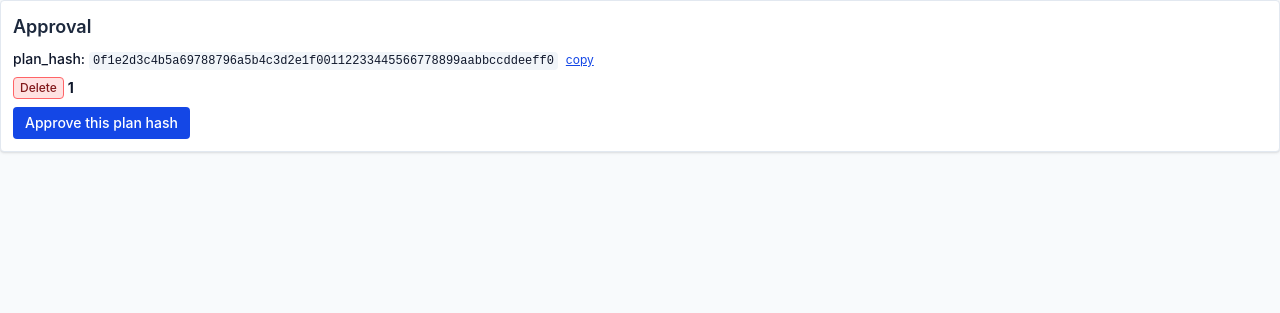
ApprovePanel › shows the error code and offers Re-plan on STALE_PLAN
Later steps or results of the test are not shown.
Click the button "Approve this plan hash" at (101, 123), box [13, 107, 190, 139]
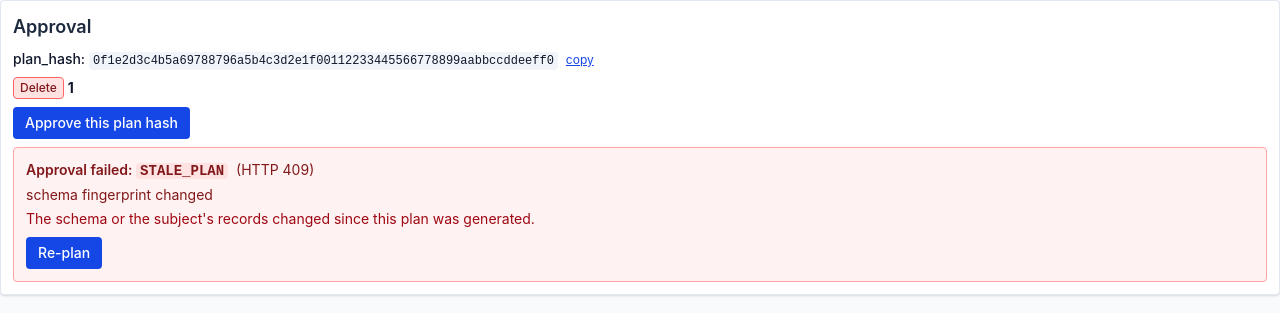
Result: the message shows "STALE_PLAN" at [140, 163, 224, 179]
Result: the message shows "schema fingerprint changed" at [26, 186, 213, 203]
